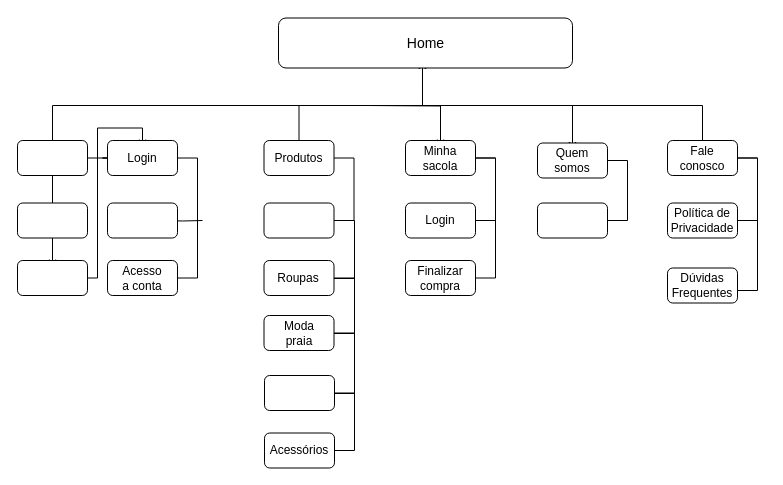
Image size: 783x485. Some labels were removed from this diagram. The shapes that lost their labels are listed below. From the top down, each one's centre as x and y in pixels, then its label:
At point 52,158: "Minha conta".
At point 52,220: "Criar conta".
At point 142,220: "Recuperar senha".
At point 298,220: "Novidades".
At point 572,220: "Nossas lojas".
At point 52,278: "Confirmação".
At point 299,392: "Calçados".
